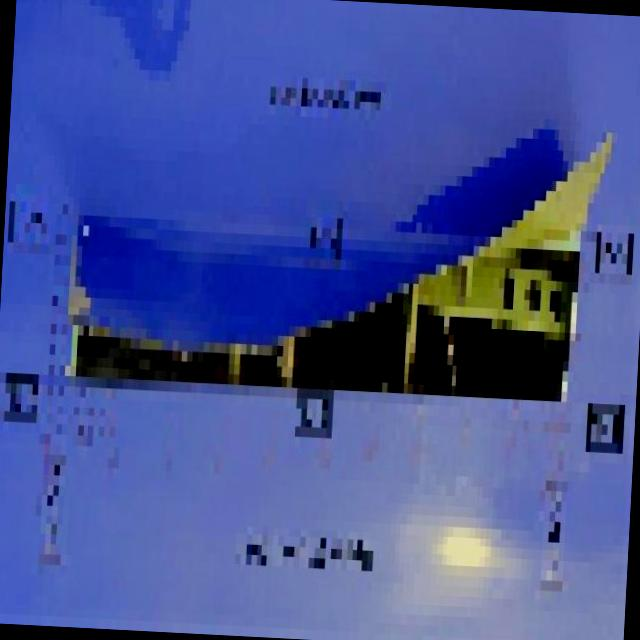crack: (64, 102, 620, 420)
